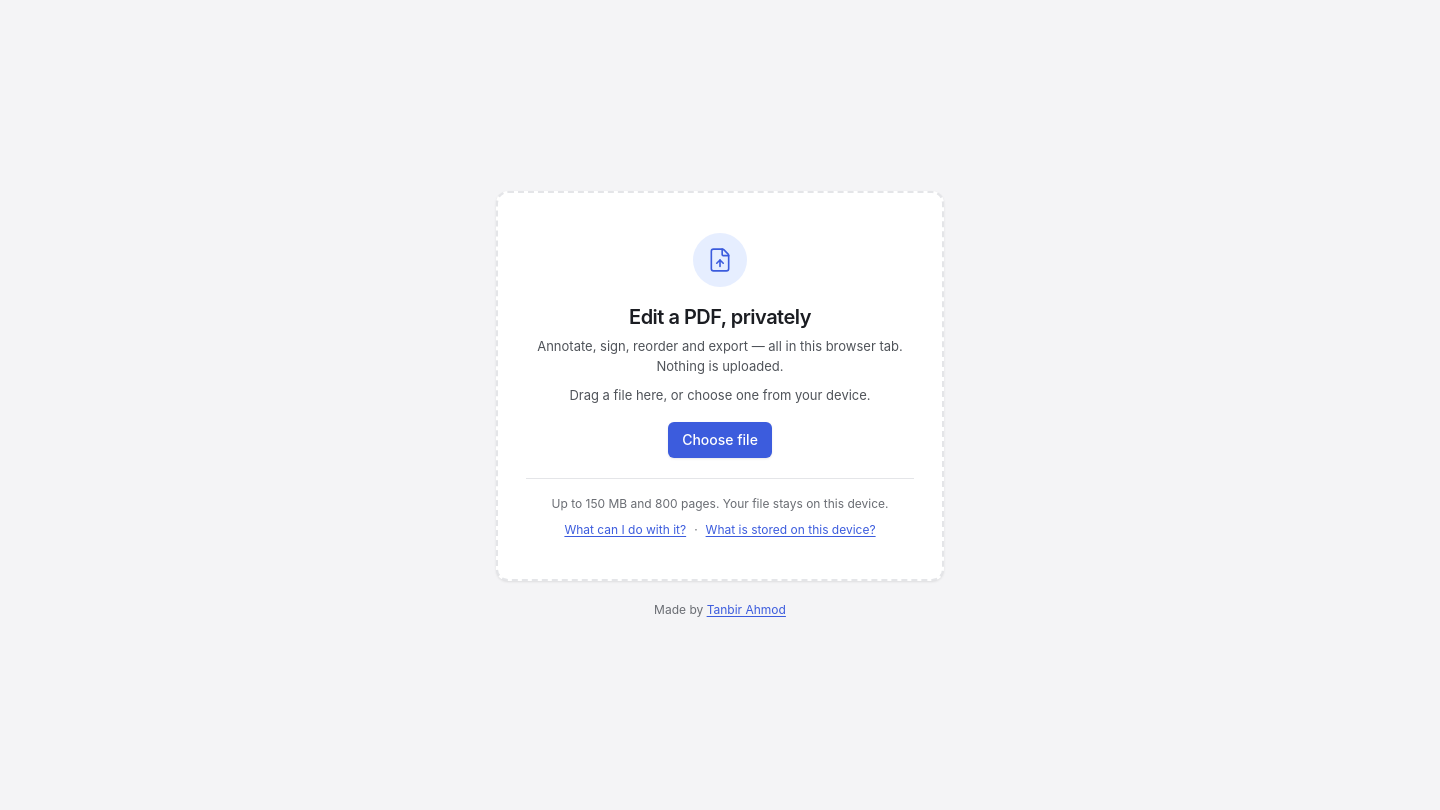
it: DropZone empty state › offers the detail behind the privacy claim
This screenshot has width=1440, height=810.
Click the button "What is stored on this device?". click: (791, 530)
box: [706,521,876,539]
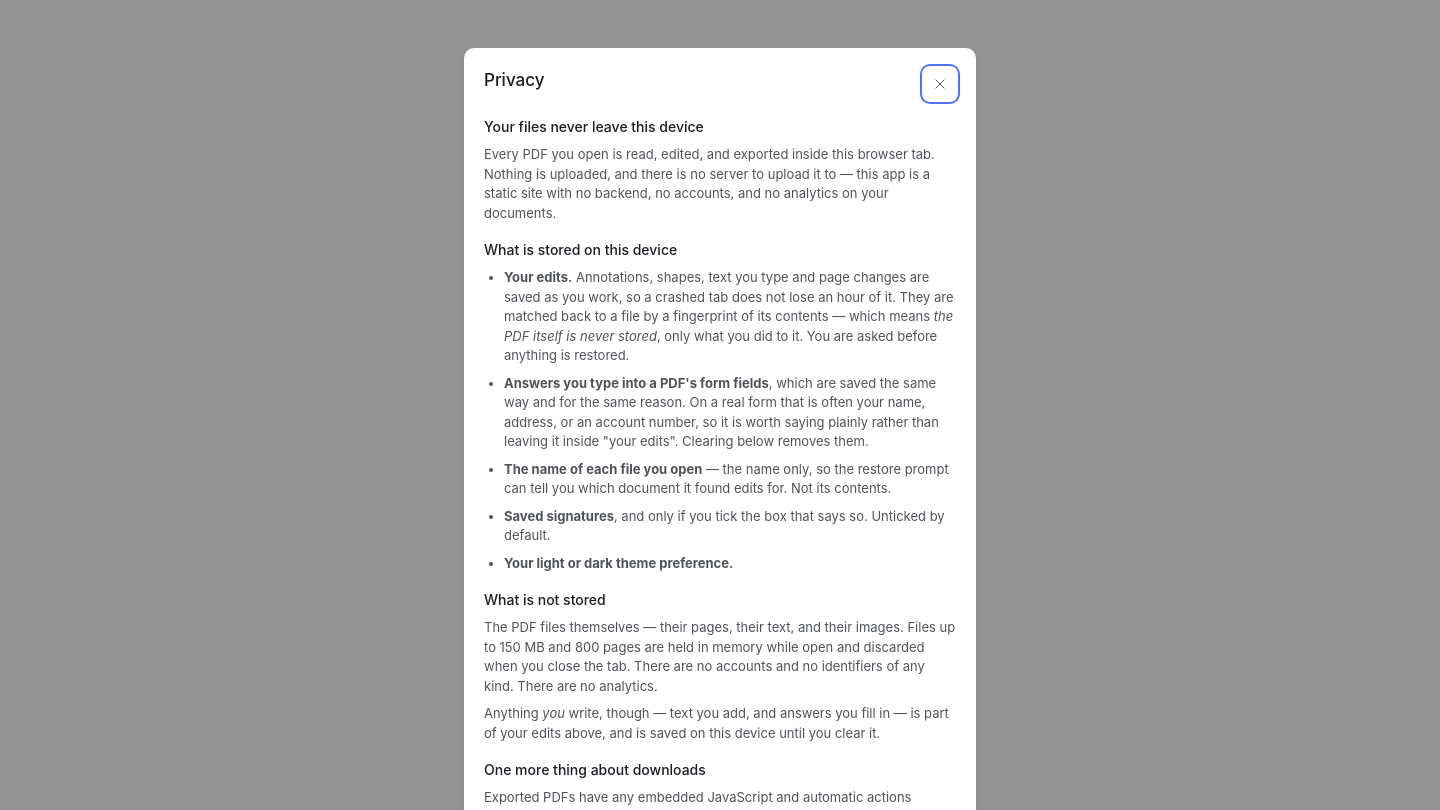
Check: the dialog is shown
